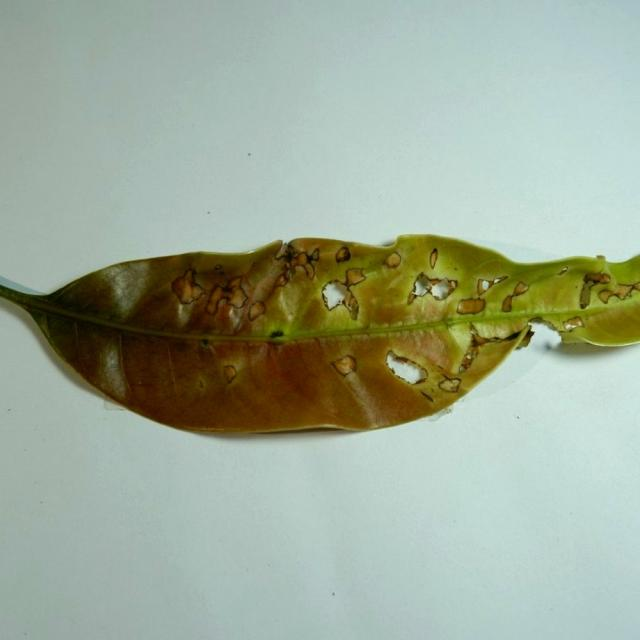Anthracnose: (287, 244, 368, 320), (173, 262, 258, 320), (383, 344, 470, 400), (406, 250, 460, 308), (460, 325, 523, 374), (457, 274, 509, 315), (582, 272, 638, 309), (277, 245, 319, 282), (170, 267, 205, 305), (501, 281, 530, 313), (409, 274, 433, 303), (460, 341, 481, 373), (330, 355, 357, 377), (456, 297, 486, 316), (479, 275, 507, 295), (514, 328, 534, 349), (345, 267, 366, 287), (471, 331, 497, 346), (583, 272, 612, 284), (274, 241, 291, 261), (579, 283, 592, 309), (562, 316, 584, 331), (384, 251, 402, 269), (335, 246, 351, 263), (273, 272, 289, 289), (199, 339, 216, 355), (513, 281, 530, 296), (226, 276, 243, 291), (223, 365, 237, 383), (527, 317, 547, 327), (459, 359, 472, 374), (429, 248, 438, 269), (436, 363, 452, 374), (407, 291, 417, 306), (310, 248, 320, 261), (557, 266, 568, 275), (213, 264, 223, 273), (634, 281, 640, 293)
Mango: (0, 235, 639, 442)
